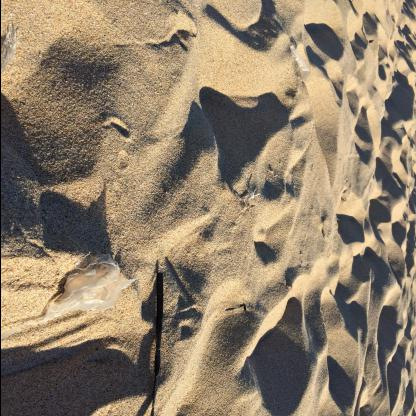plastik: (40, 254, 136, 322)
